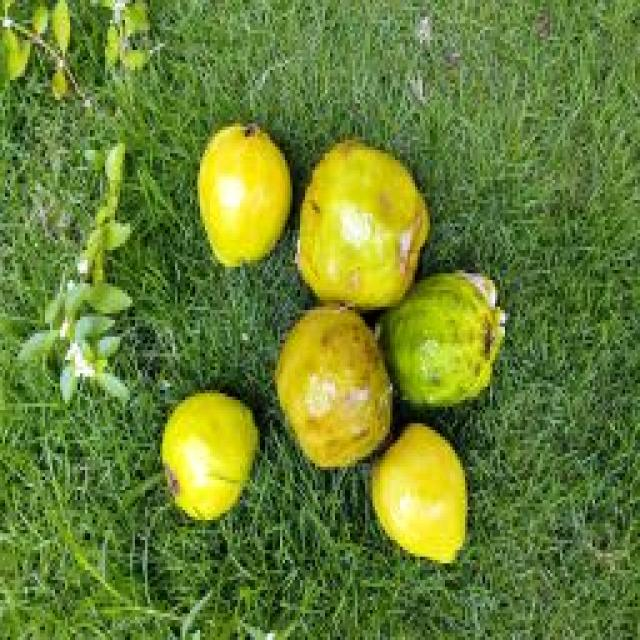Organik: (290, 126, 444, 315), (368, 249, 509, 413), (262, 313, 401, 476), (187, 114, 301, 290), (150, 387, 268, 536), (372, 416, 471, 590)
